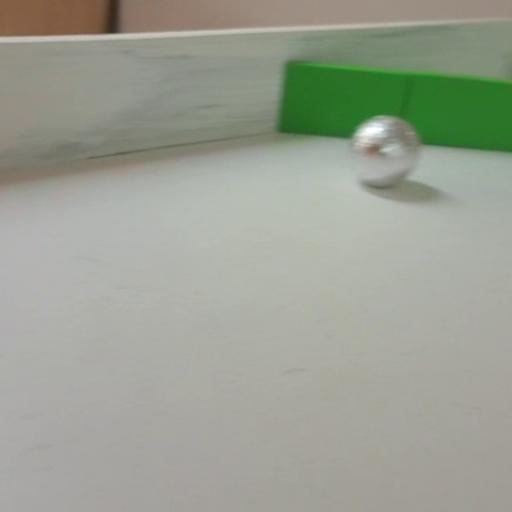alive: (348, 115, 418, 187)
